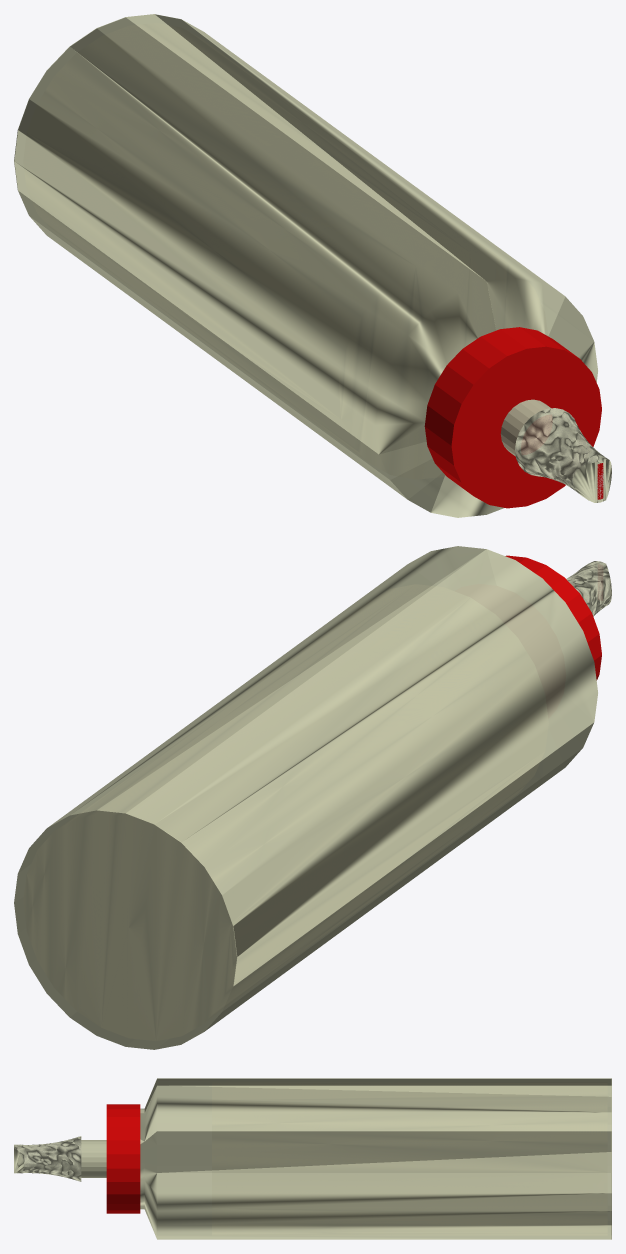
Rendered from model_align.obj.
The picture shows the model from 3 angles, top to bottom: view 1: azimuth 30°, elevation 25°; view 2: azimuth 150°, elevation 25°; view 3: azimuth 270°, elevation 25°; orthographic projection. The views are drawn at different scales.
Size of the model in its own units: 0.0661 by 0.0661 by 0.2439.
